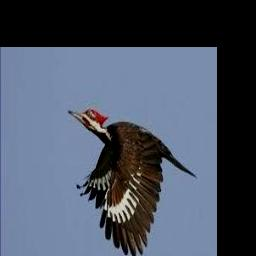Woodpecker: (69, 108, 197, 256)
